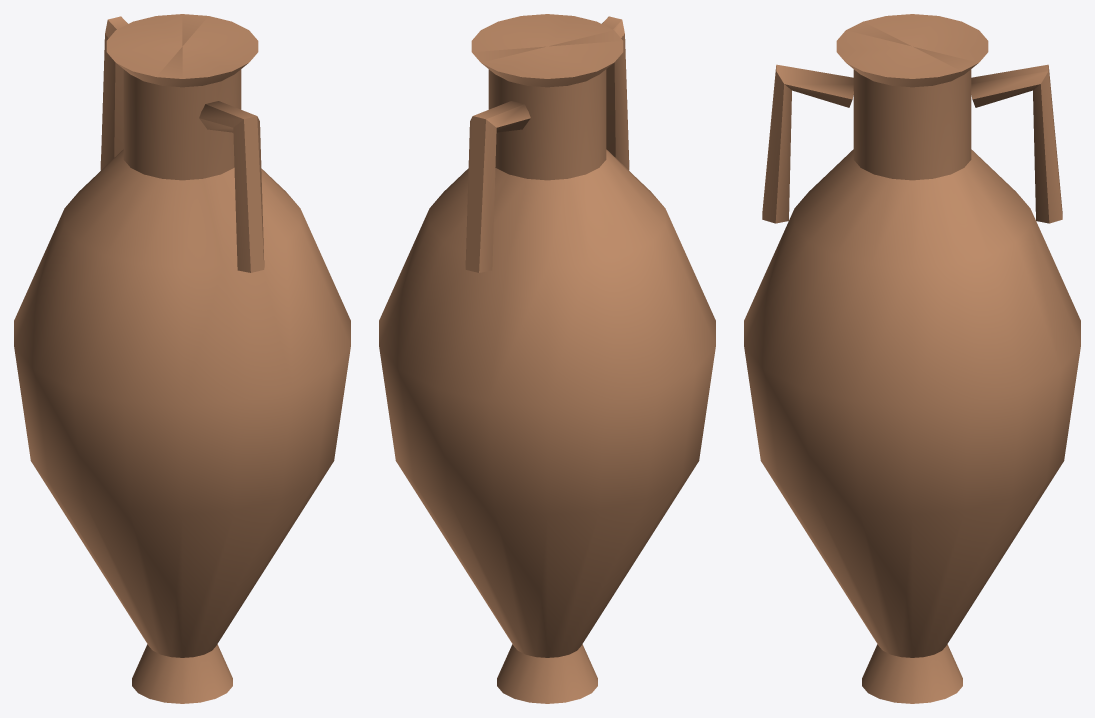
Rendered from amphora.glb.
3 renders of one model, left to right at view 1: azimuth 30°, elevation 25°; view 2: azimuth 150°, elevation 25°; view 3: azimuth 270°, elevation 25°, orthographic.
Visible parts, largest first — view 1: boat_terracotta; view 2: boat_terracotta; view 3: boat_terracotta.
Boxes of the visible parts, <box> form: boat_terracotta: <box>14,14,350,703</box>; boat_terracotta: <box>379,14,715,703</box>; boat_terracotta: <box>744,14,1080,703</box>.
Size of the model in its own units: 0.4 by 0.82 by 0.3939.
